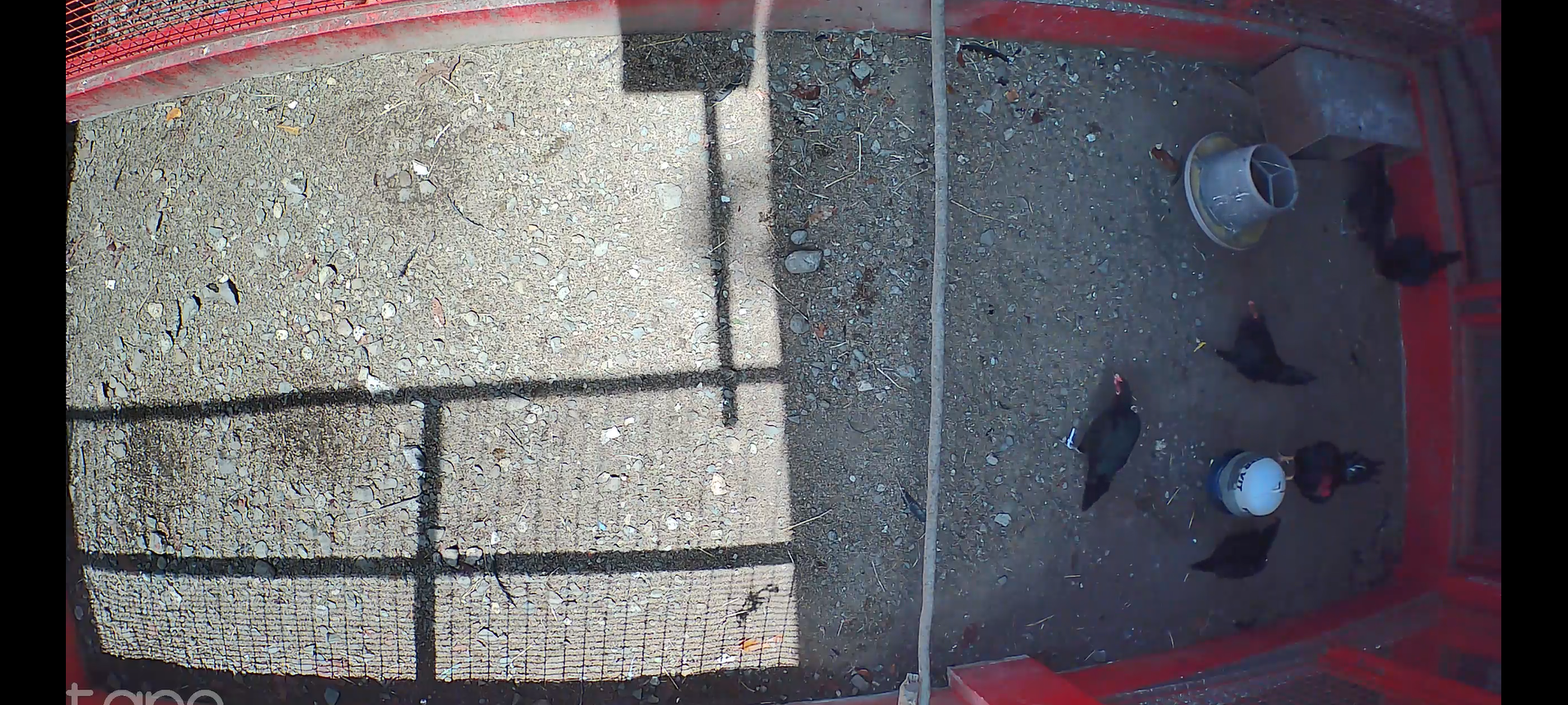Chicken: (1186, 298, 1320, 395), (1066, 374, 1143, 514), (1187, 514, 1282, 581), (1335, 146, 1395, 249), (1369, 234, 1467, 289)
Drinker: (1204, 445, 1287, 518)
Feeder: (1178, 127, 1301, 254)
Leg_Band_White: (1065, 426, 1078, 454)
Leg_Band_Yellow: (1193, 338, 1209, 356)
Rooster: (1278, 442, 1387, 503)
